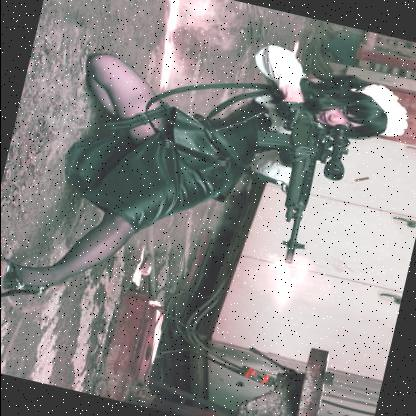rifle: (232, 80, 353, 275)
